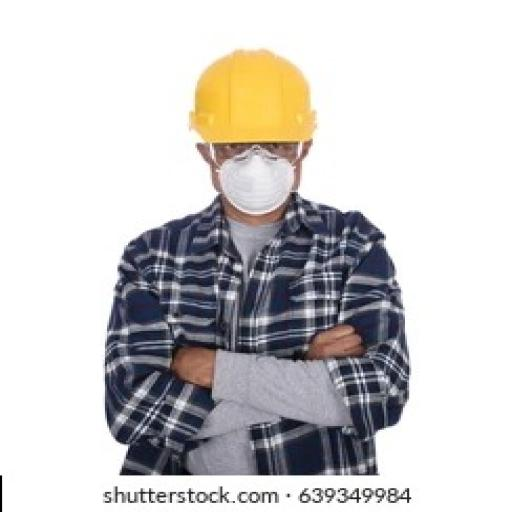mask: (213, 160, 308, 213)
